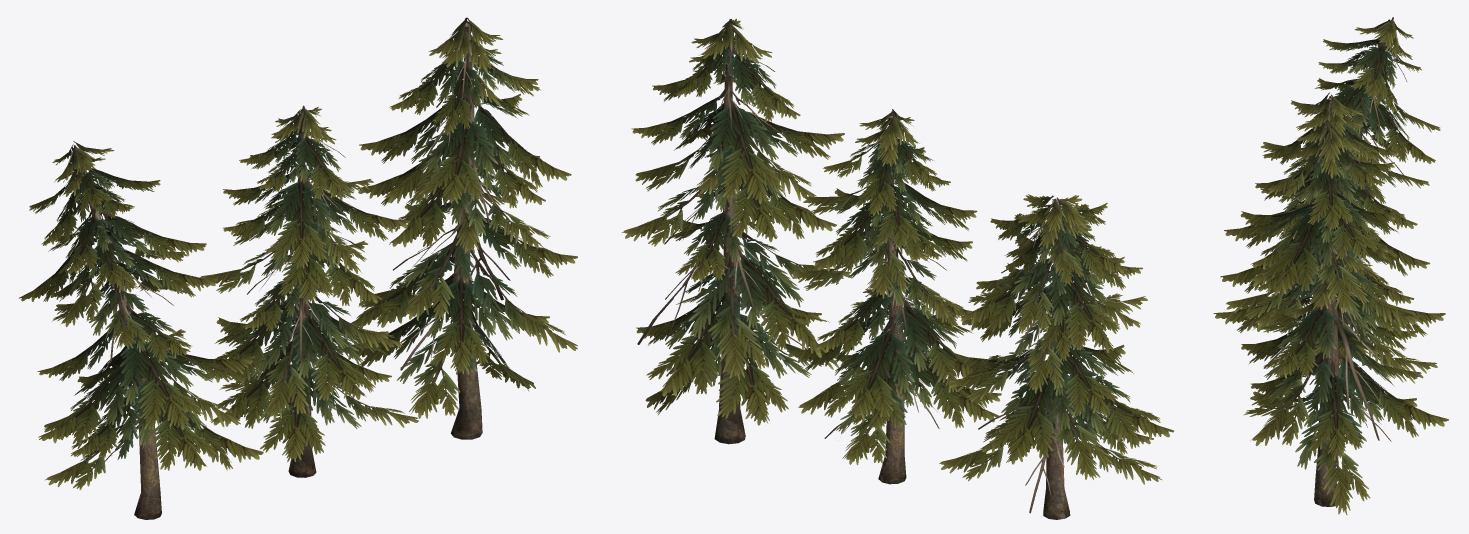
The model's file is fir_tree_stylized.glb.
3 renders of one model, left to right at view 1: azimuth 30°, elevation 25°; view 2: azimuth 150°, elevation 25°; view 3: azimuth 270°, elevation 25°, orthographic. The views are drawn at different scales.
Visible parts, largest first — view 1: Branches002, Branches, Branches001, Tree_bark002, Tree_bark001, Tree_bark; view 2: Branches002, Branches001, Branches, Tree_bark, Tree_bark002, Tree_bark001; view 3: Branches002, Branches, Branches001, Tree_bark002.
Part boxes in pixels (bbox=[...]): Branches002: bbox=[337, 17, 577, 418]; Branches: bbox=[200, 105, 418, 462]; Branches001: bbox=[19, 141, 263, 490]; Tree_bark002: bbox=[451, 23, 482, 439]; Tree_bark001: bbox=[72, 148, 161, 519]; Tree_bark: bbox=[288, 111, 316, 477]; Branches002: bbox=[622, 18, 864, 425]; Branches001: bbox=[939, 194, 1173, 513]; Branches: bbox=[787, 109, 1001, 465]; Tree_bark: bbox=[878, 116, 906, 484]; Tree_bark002: bbox=[714, 27, 745, 444]; Tree_bark001: bbox=[1043, 199, 1070, 519]; Branches002: bbox=[1226, 119, 1448, 515]; Branches: bbox=[1213, 92, 1445, 412]; Branches001: bbox=[1220, 17, 1440, 336]; Tree_bark002: bbox=[1314, 126, 1339, 506].
Bounding box in the file's own units: 188 × 142 × 82.37.
2 materials, 2 textured.
